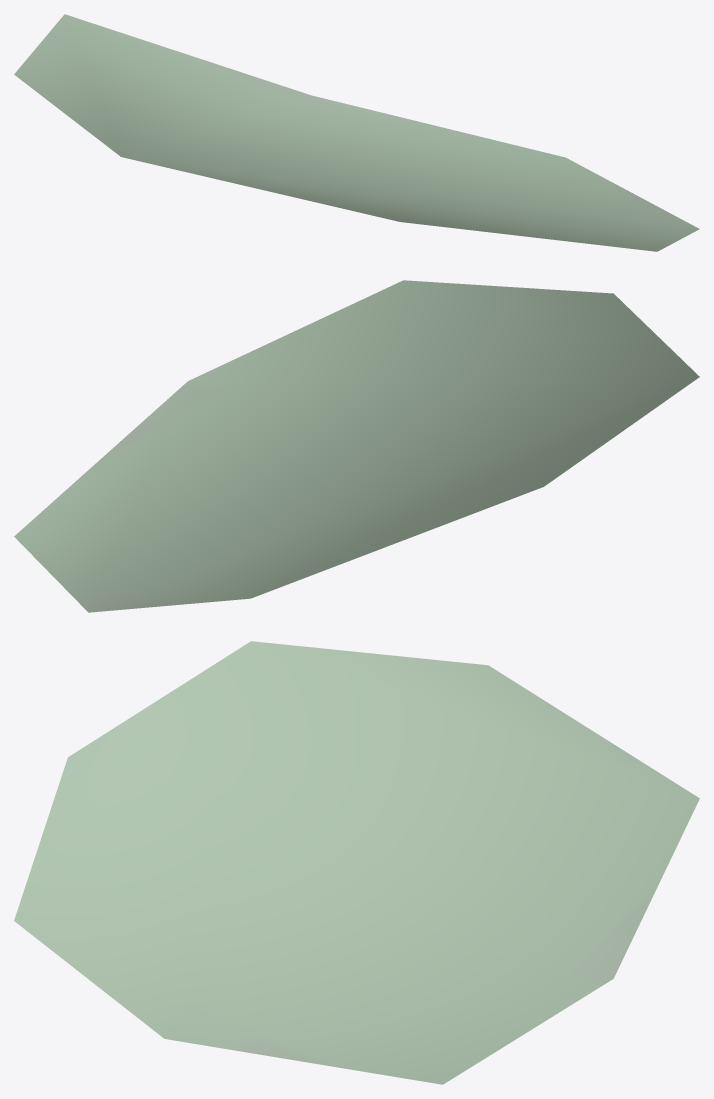
Rendered from TROLLHOLE02_HOLECAP175.fbx.
3 views of the same model, one above another, from view 1: azimuth 30°, elevation 25°; view 2: azimuth 150°, elevation 25°; view 3: azimuth 270°, elevation 25° (orthographic). The views are drawn at different scales.
Visible parts, largest first — view 1: TROLLHOLE02_HOLECAP175; view 2: TROLLHOLE02_HOLECAP175; view 3: TROLLHOLE02_HOLECAP175.
Boxes of the visible parts, x1,y1,x2,y2 form: TROLLHOLE02_HOLECAP175: (14, 14, 699, 251); TROLLHOLE02_HOLECAP175: (14, 280, 699, 612); TROLLHOLE02_HOLECAP175: (14, 641, 699, 1084).
Bounding box in the file's own units: 20957 × 7665 × 24435.
1 material, 1 textured.
